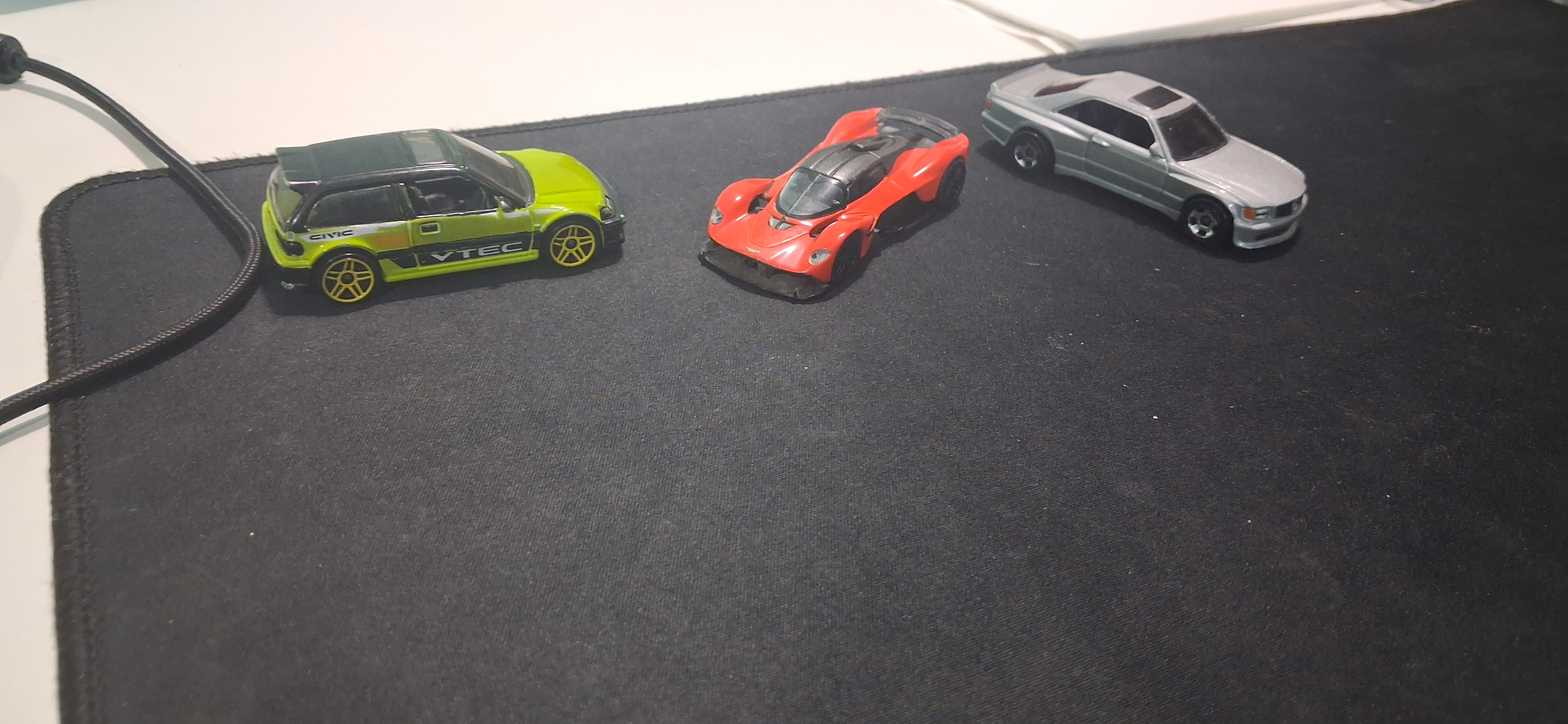Aston_Martin_Valkyrie: (662, 63, 974, 339)
Honda_Civic: (211, 71, 630, 333)
Mercedes_Benz_560_SEC_AMG: (954, 19, 1325, 301)
